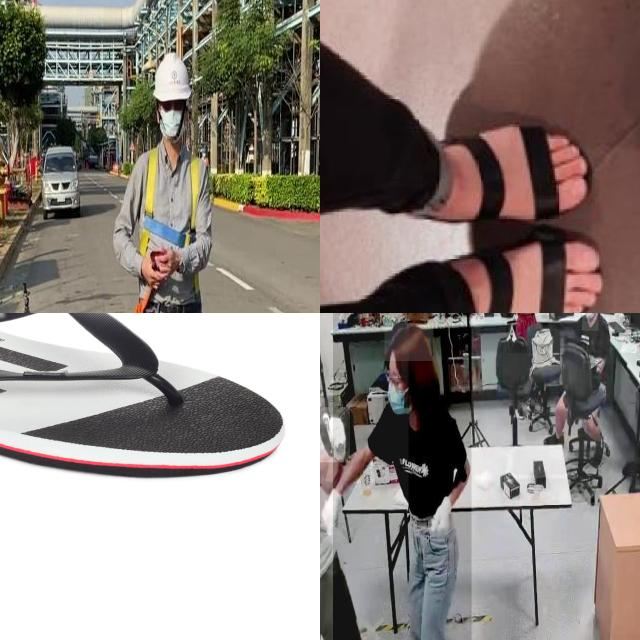Harness: (140, 150, 202, 256), (134, 287, 154, 313)
Sandals: (0, 313, 287, 480), (385, 120, 595, 224), (428, 239, 604, 313)
face_mask: (383, 378, 409, 426), (581, 313, 598, 330)
hand_glove: (320, 407, 350, 462), (429, 496, 455, 553), (320, 486, 342, 542)
head_nohelmet: (384, 323, 434, 362)
person: (333, 313, 472, 640), (320, 315, 409, 640), (549, 313, 613, 459), (506, 313, 547, 354)
